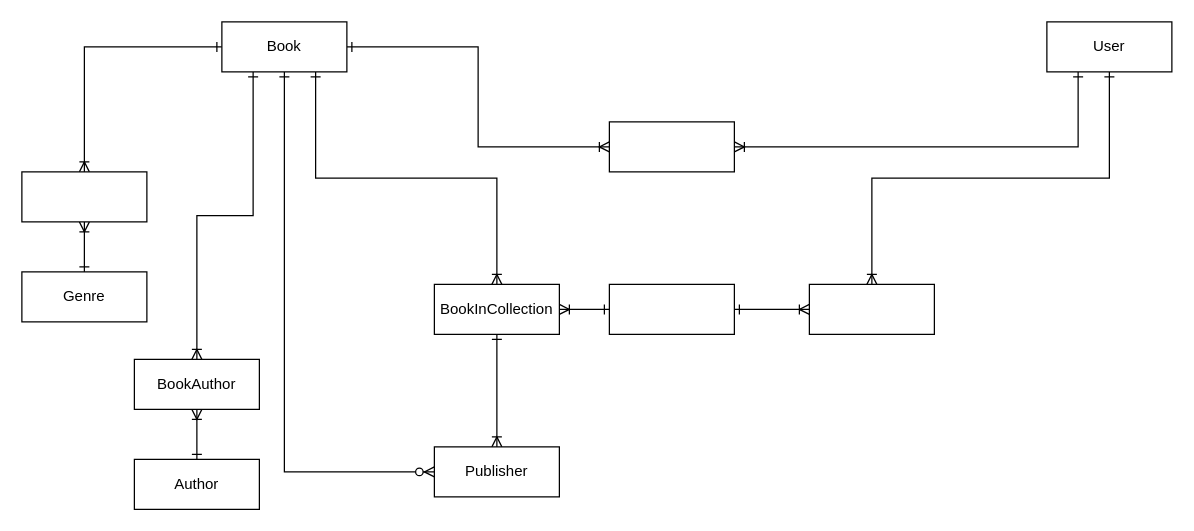
This 1194x531 diagram has some shape labels left out. Each missing label, with the box of its shape:
BookGenre: (21, 171, 147, 222)
Collection: (608, 283, 734, 334)
UserBook: (608, 121, 734, 172)
UserCollection: (808, 283, 934, 334)
